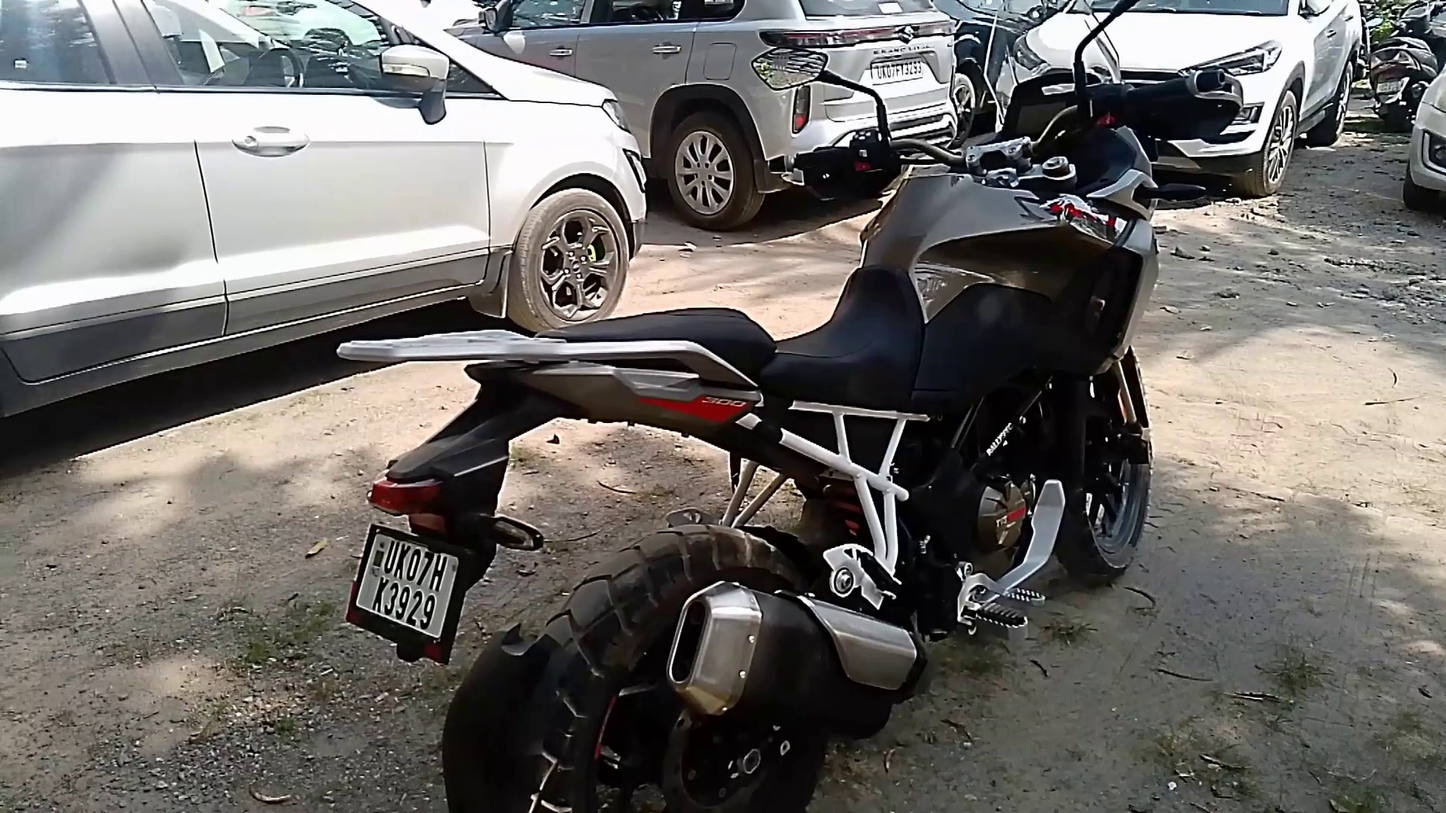bike-engine: (951, 464, 1041, 581)
